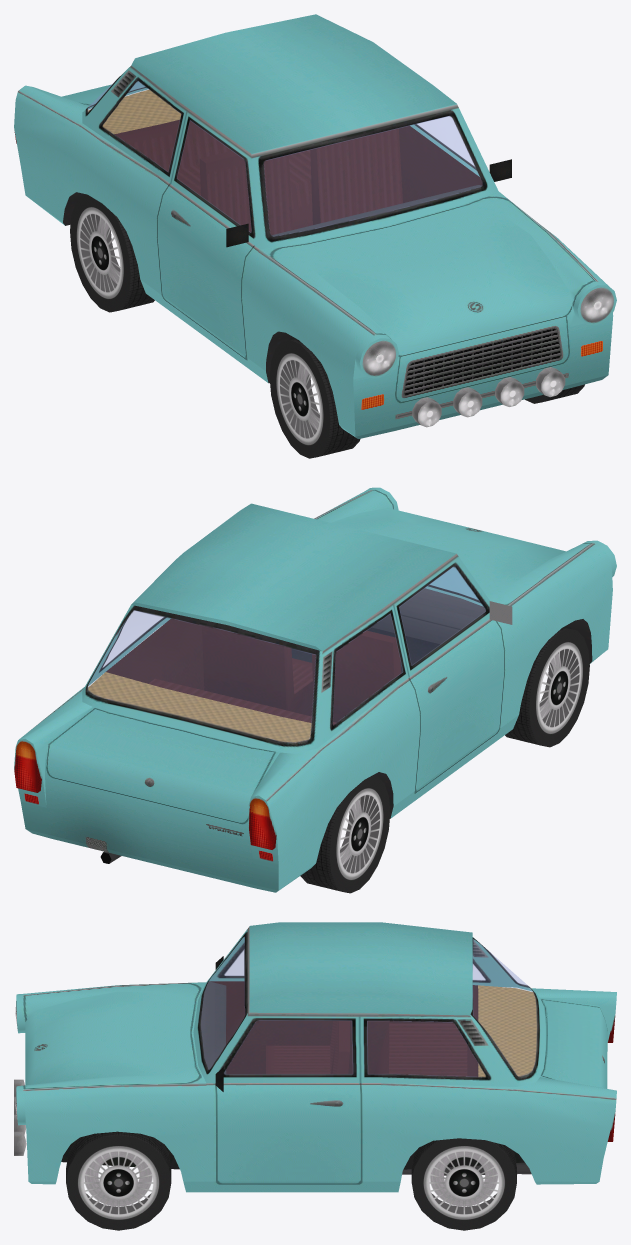
3 renders of one model, top to bottom at view 1: azimuth 30°, elevation 25°; view 2: azimuth 150°, elevation 25°; view 3: azimuth 270°, elevation 25°, orthographic. The views are drawn at different scales.
Parts seen in each view (by area): view 1: BODY, INTERIOR, WHEEL_0, WHEEL_2, ADDON_0; view 2: BODY, INTERIOR, WHEEL_0, WHEEL_2; view 3: BODY, INTERIOR, WHEEL_1, WHEEL_3, ADDON_0.
Part boxes in pixels (x1,y1,x2,y2): BODY: (14, 14, 616, 438); INTERIOR: (88, 89, 482, 236); WHEEL_0: (269, 338, 360, 458); WHEEL_2: (70, 194, 154, 312); ADDON_0: (412, 367, 565, 427); BODY: (14, 487, 616, 892); INTERIOR: (88, 588, 485, 742); WHEEL_0: (505, 627, 589, 747); WHEEL_2: (300, 775, 390, 893); BODY: (15, 922, 616, 1192); INTERIOR: (200, 981, 537, 1077); WHEEL_1: (66, 1131, 171, 1230); WHEEL_3: (411, 1138, 516, 1230); ADDON_0: (14, 1079, 26, 1155).
Bounding box in the file's own units: 1.63 × 1.34 × 3.44.
22 materials, 22 textured.
